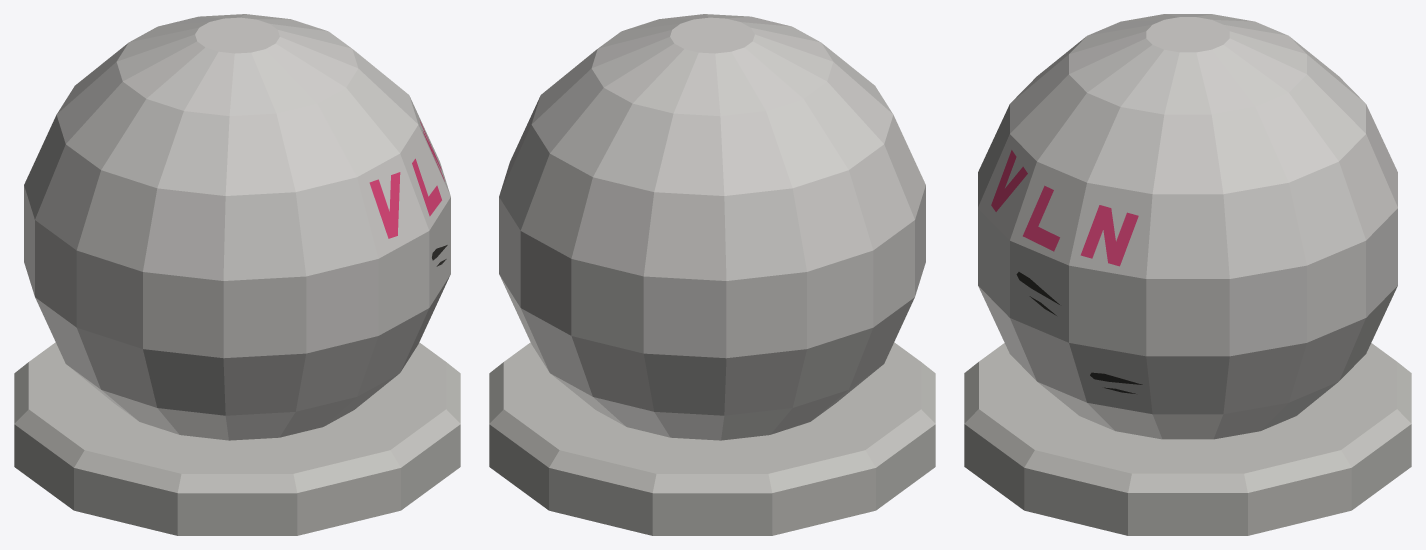
File: concrete-sphere-bollard-d99a57.glb
3 views of the same model, side by side, from view 1: azimuth 30°, elevation 25°; view 2: azimuth 150°, elevation 25°; view 3: azimuth 270°, elevation 25° (orthographic).
Parts seen in each view (by area): view 1: bollard-body; view 2: bollard-body; view 3: bollard-body.
Boxes of the visible parts, x1,y1,x2,y2 form: bollard-body: [14, 14, 460, 535]; bollard-body: [489, 14, 935, 535]; bollard-body: [964, 14, 1411, 535].
Size of the model in its own units: 0.6143 by 0.6162 by 0.6143.
